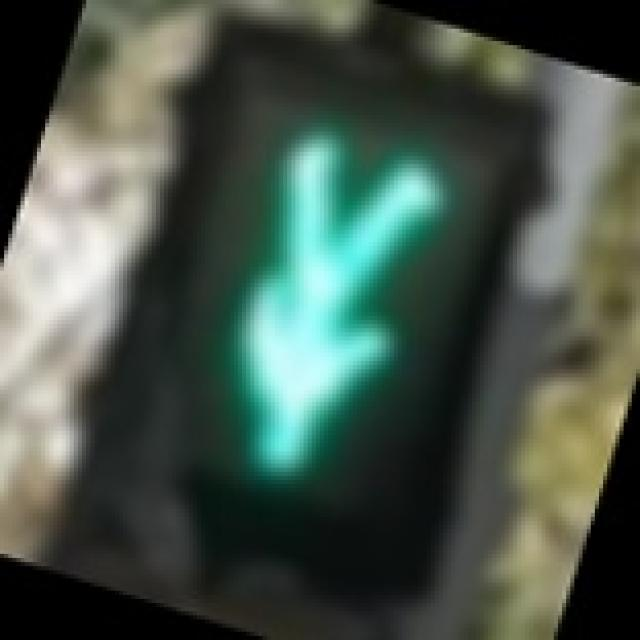geen-crossing: (111, 66, 517, 558)
